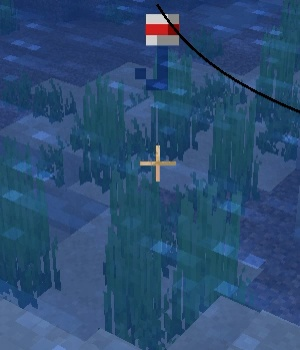up: (139, 13, 181, 96)
